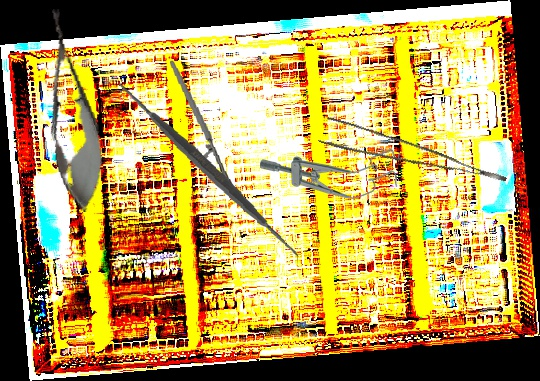Micro Scissor: (30, 5, 112, 216)
Needle Holder: (169, 53, 245, 210)
Spatula Surgical: (106, 71, 311, 269)
Speculum: (260, 149, 401, 199)
Tissue Forceps: (317, 106, 508, 213)
